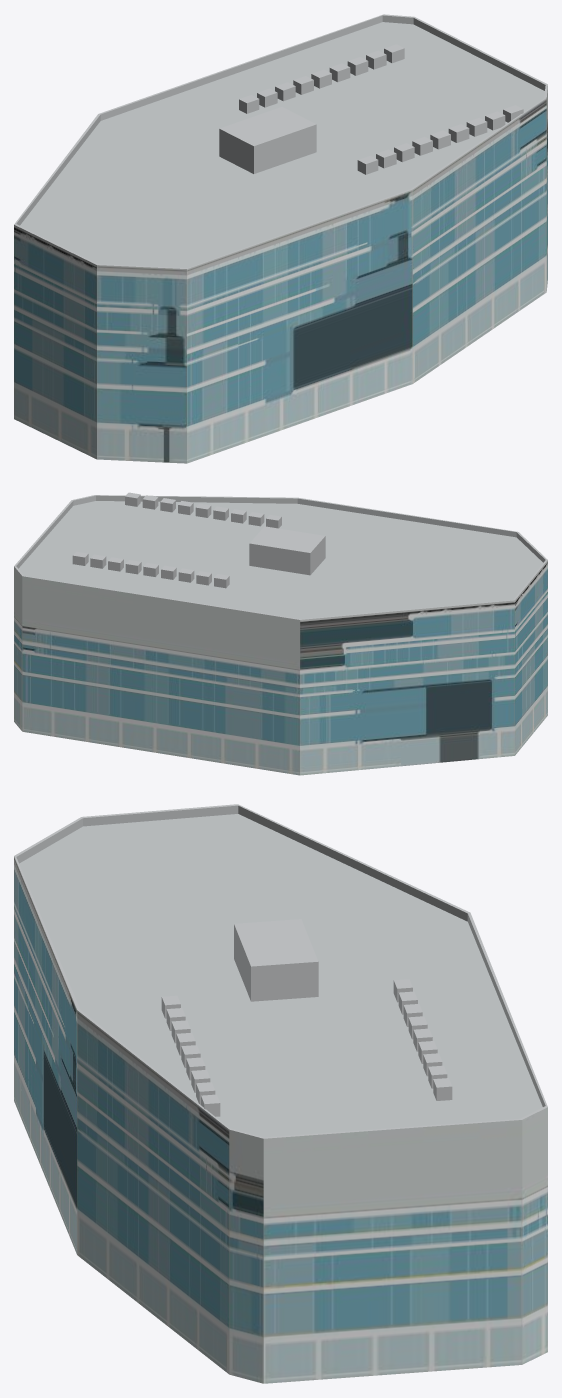
The picture shows the model from 3 angles, top to bottom: view 1: azimuth 30°, elevation 25°; view 2: azimuth 150°, elevation 25°; view 3: azimuth 270°, elevation 25°; orthographic projection. The views are drawn at different scales.
Visible parts, largest first — view 1: 1424945040; view 2: 1424945040; view 3: 1424945040.
Part boxes in pixels (box(x1,y1,x2,y2)): 1424945040: box(14, 14, 547, 463); 1424945040: box(14, 492, 547, 775); 1424945040: box(14, 804, 547, 1383).
Bounding box in the file's own units: 69.41 × 26.3 × 46.81.
3 materials, 1 textured.
